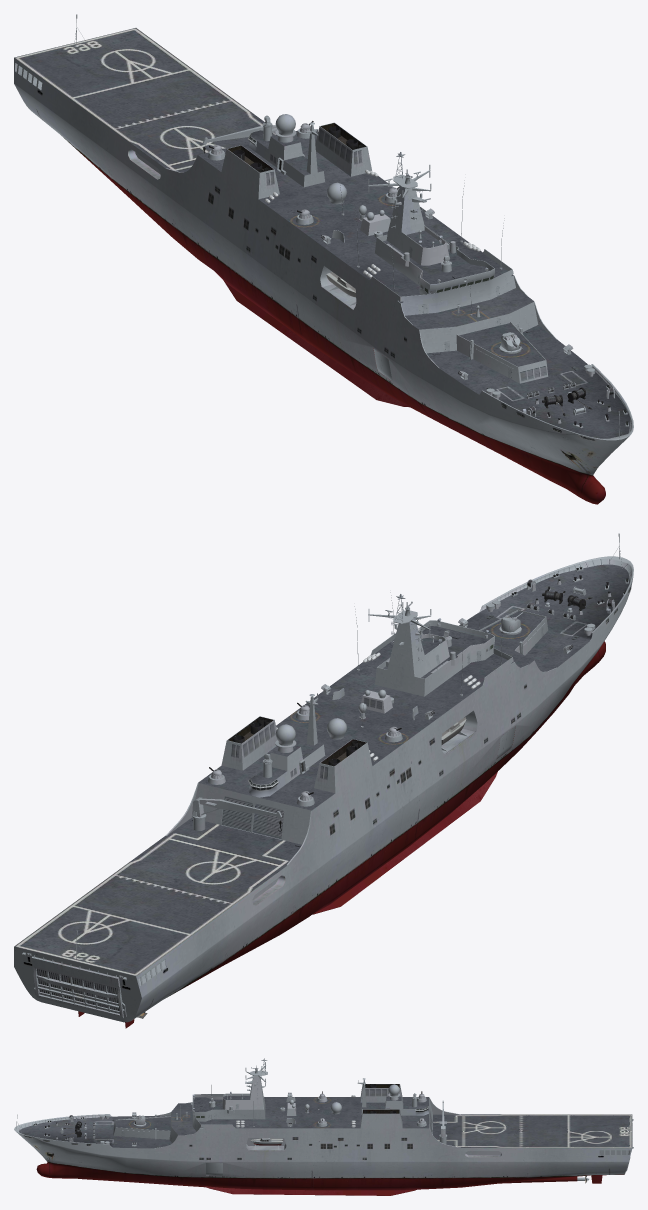
The picture shows the model from 3 angles, top to bottom: view 1: azimuth 30°, elevation 25°; view 2: azimuth 150°, elevation 25°; view 3: azimuth 270°, elevation 25°; orthographic projection. The views are drawn at different scales.
Visible parts, largest first — view 1: T071; view 2: T071; view 3: T071.
Boxes of the visible parts, left/top/right/bottom form: T071: left=14, top=14, right=633, bottom=504; T071: left=14, top=533, right=633, bottom=1028; T071: left=14, top=1058, right=633, bottom=1195.
Size of the model in its own units: 28.48 by 46.43 by 212.
Materials: 4 (4 with a texture image).
